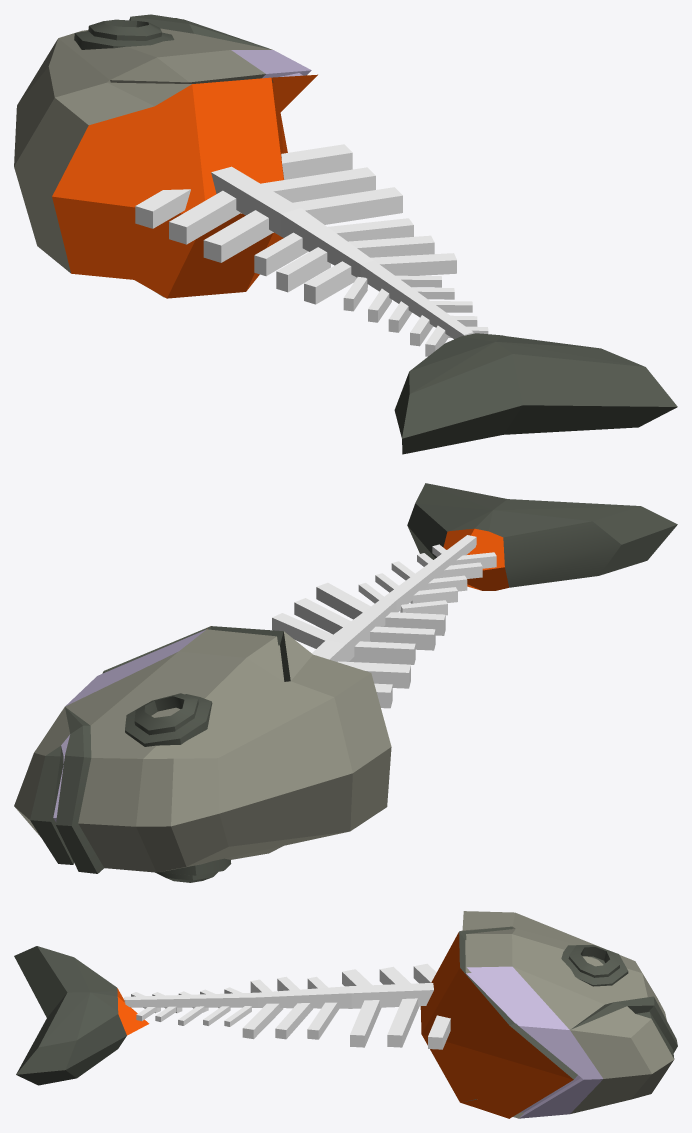
The model's file is food_fish_fulleaten.fbx.
3 renders of one model, top to bottom at view 1: azimuth 30°, elevation 25°; view 2: azimuth 150°, elevation 25°; view 3: azimuth 270°, elevation 25°, orthographic. The views are drawn at different scales.
Parts seen in each view (by area): view 1: armystuff:footsoldier:armystuff:footsoldier:armystuff:footso; view 2: armystuff:footsoldier:armystuff:footsoldier:armystuff:footso; view 3: armystuff:footsoldier:armystuff:footsoldier:armystuff:footso.
Boxes of the visible parts, <box> form: armystuff:footsoldier:armystuff:footsoldier:armystuff:footso: <box>14,14,677,454</box>; armystuff:footsoldier:armystuff:footsoldier:armystuff:footso: <box>14,483,677,882</box>; armystuff:footsoldier:armystuff:footsoldier:armystuff:footso: <box>14,911,677,1118</box>.
Size of the model in its own units: 50.66 by 35.6 by 140.
1 material, 1 textured.
